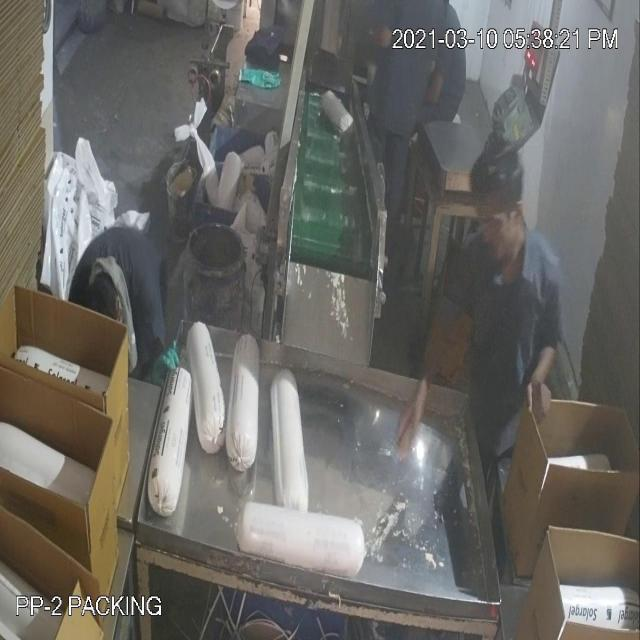No_Gloves: (38, 118, 540, 388)
